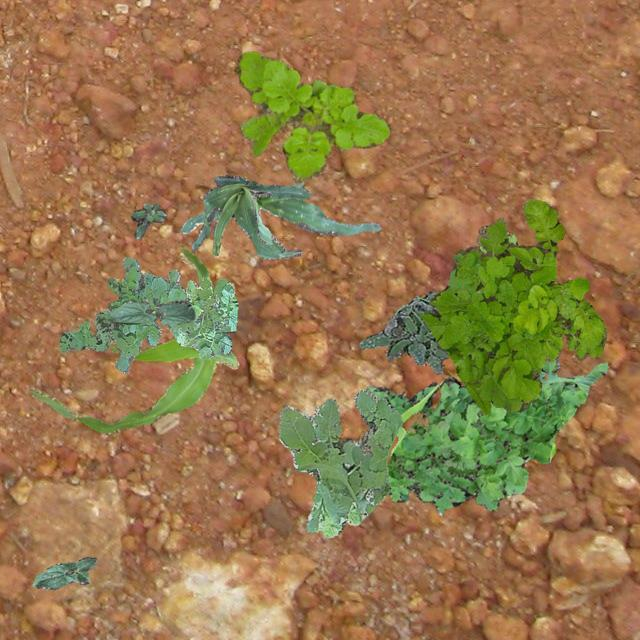crop: (28, 247, 238, 432), (178, 182, 380, 250), (190, 174, 310, 258), (106, 298, 194, 324), (31, 556, 96, 588)
weed: (420, 198, 606, 414), (363, 354, 607, 514), (58, 255, 236, 372), (233, 51, 389, 182), (278, 388, 402, 538), (358, 290, 446, 372), (130, 202, 166, 238), (478, 225, 516, 252)
